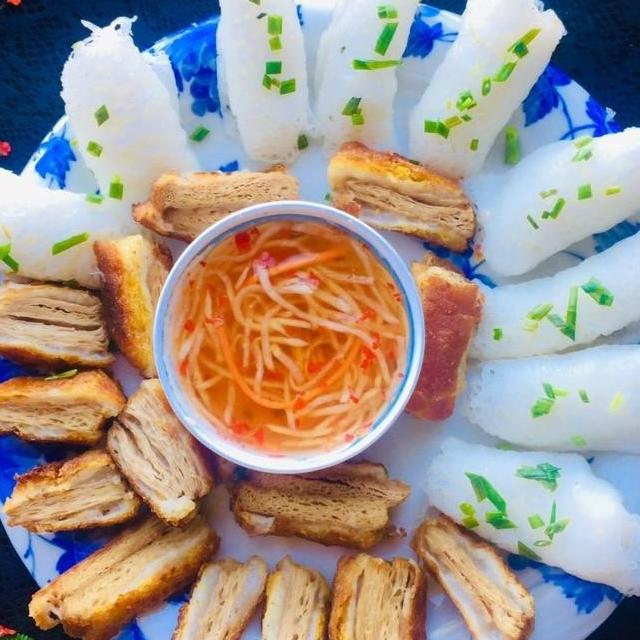banh hoi: (417, 426, 640, 604), (53, 8, 204, 225), (455, 114, 640, 284), (405, 0, 571, 183), (456, 219, 640, 363), (203, 0, 337, 172), (304, 0, 438, 165), (0, 161, 164, 295), (460, 337, 640, 455)
banh hoi heo quay: (0, 0, 640, 640)
thit heo quay: (24, 492, 224, 640), (96, 370, 224, 532), (323, 134, 481, 262), (219, 456, 419, 556), (393, 244, 492, 432), (407, 505, 543, 640), (0, 440, 159, 545), (87, 226, 188, 386), (0, 269, 122, 376), (0, 365, 137, 456), (319, 544, 437, 640), (161, 546, 276, 640), (247, 549, 344, 640)
